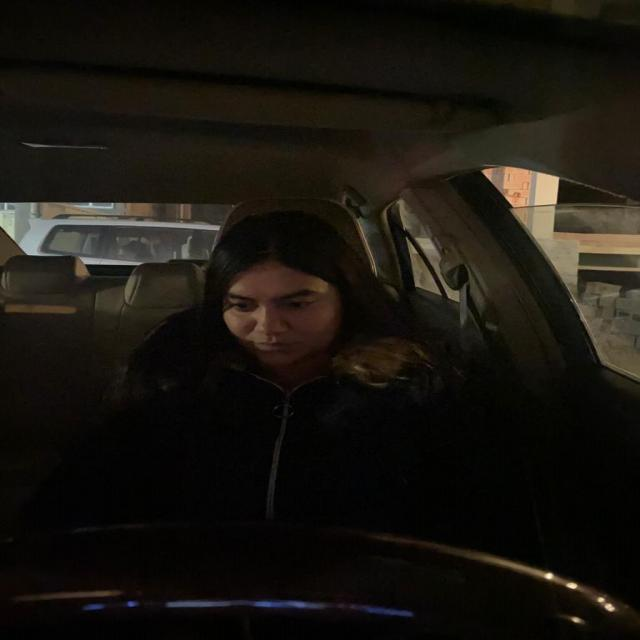person: (200, 202, 388, 384)
